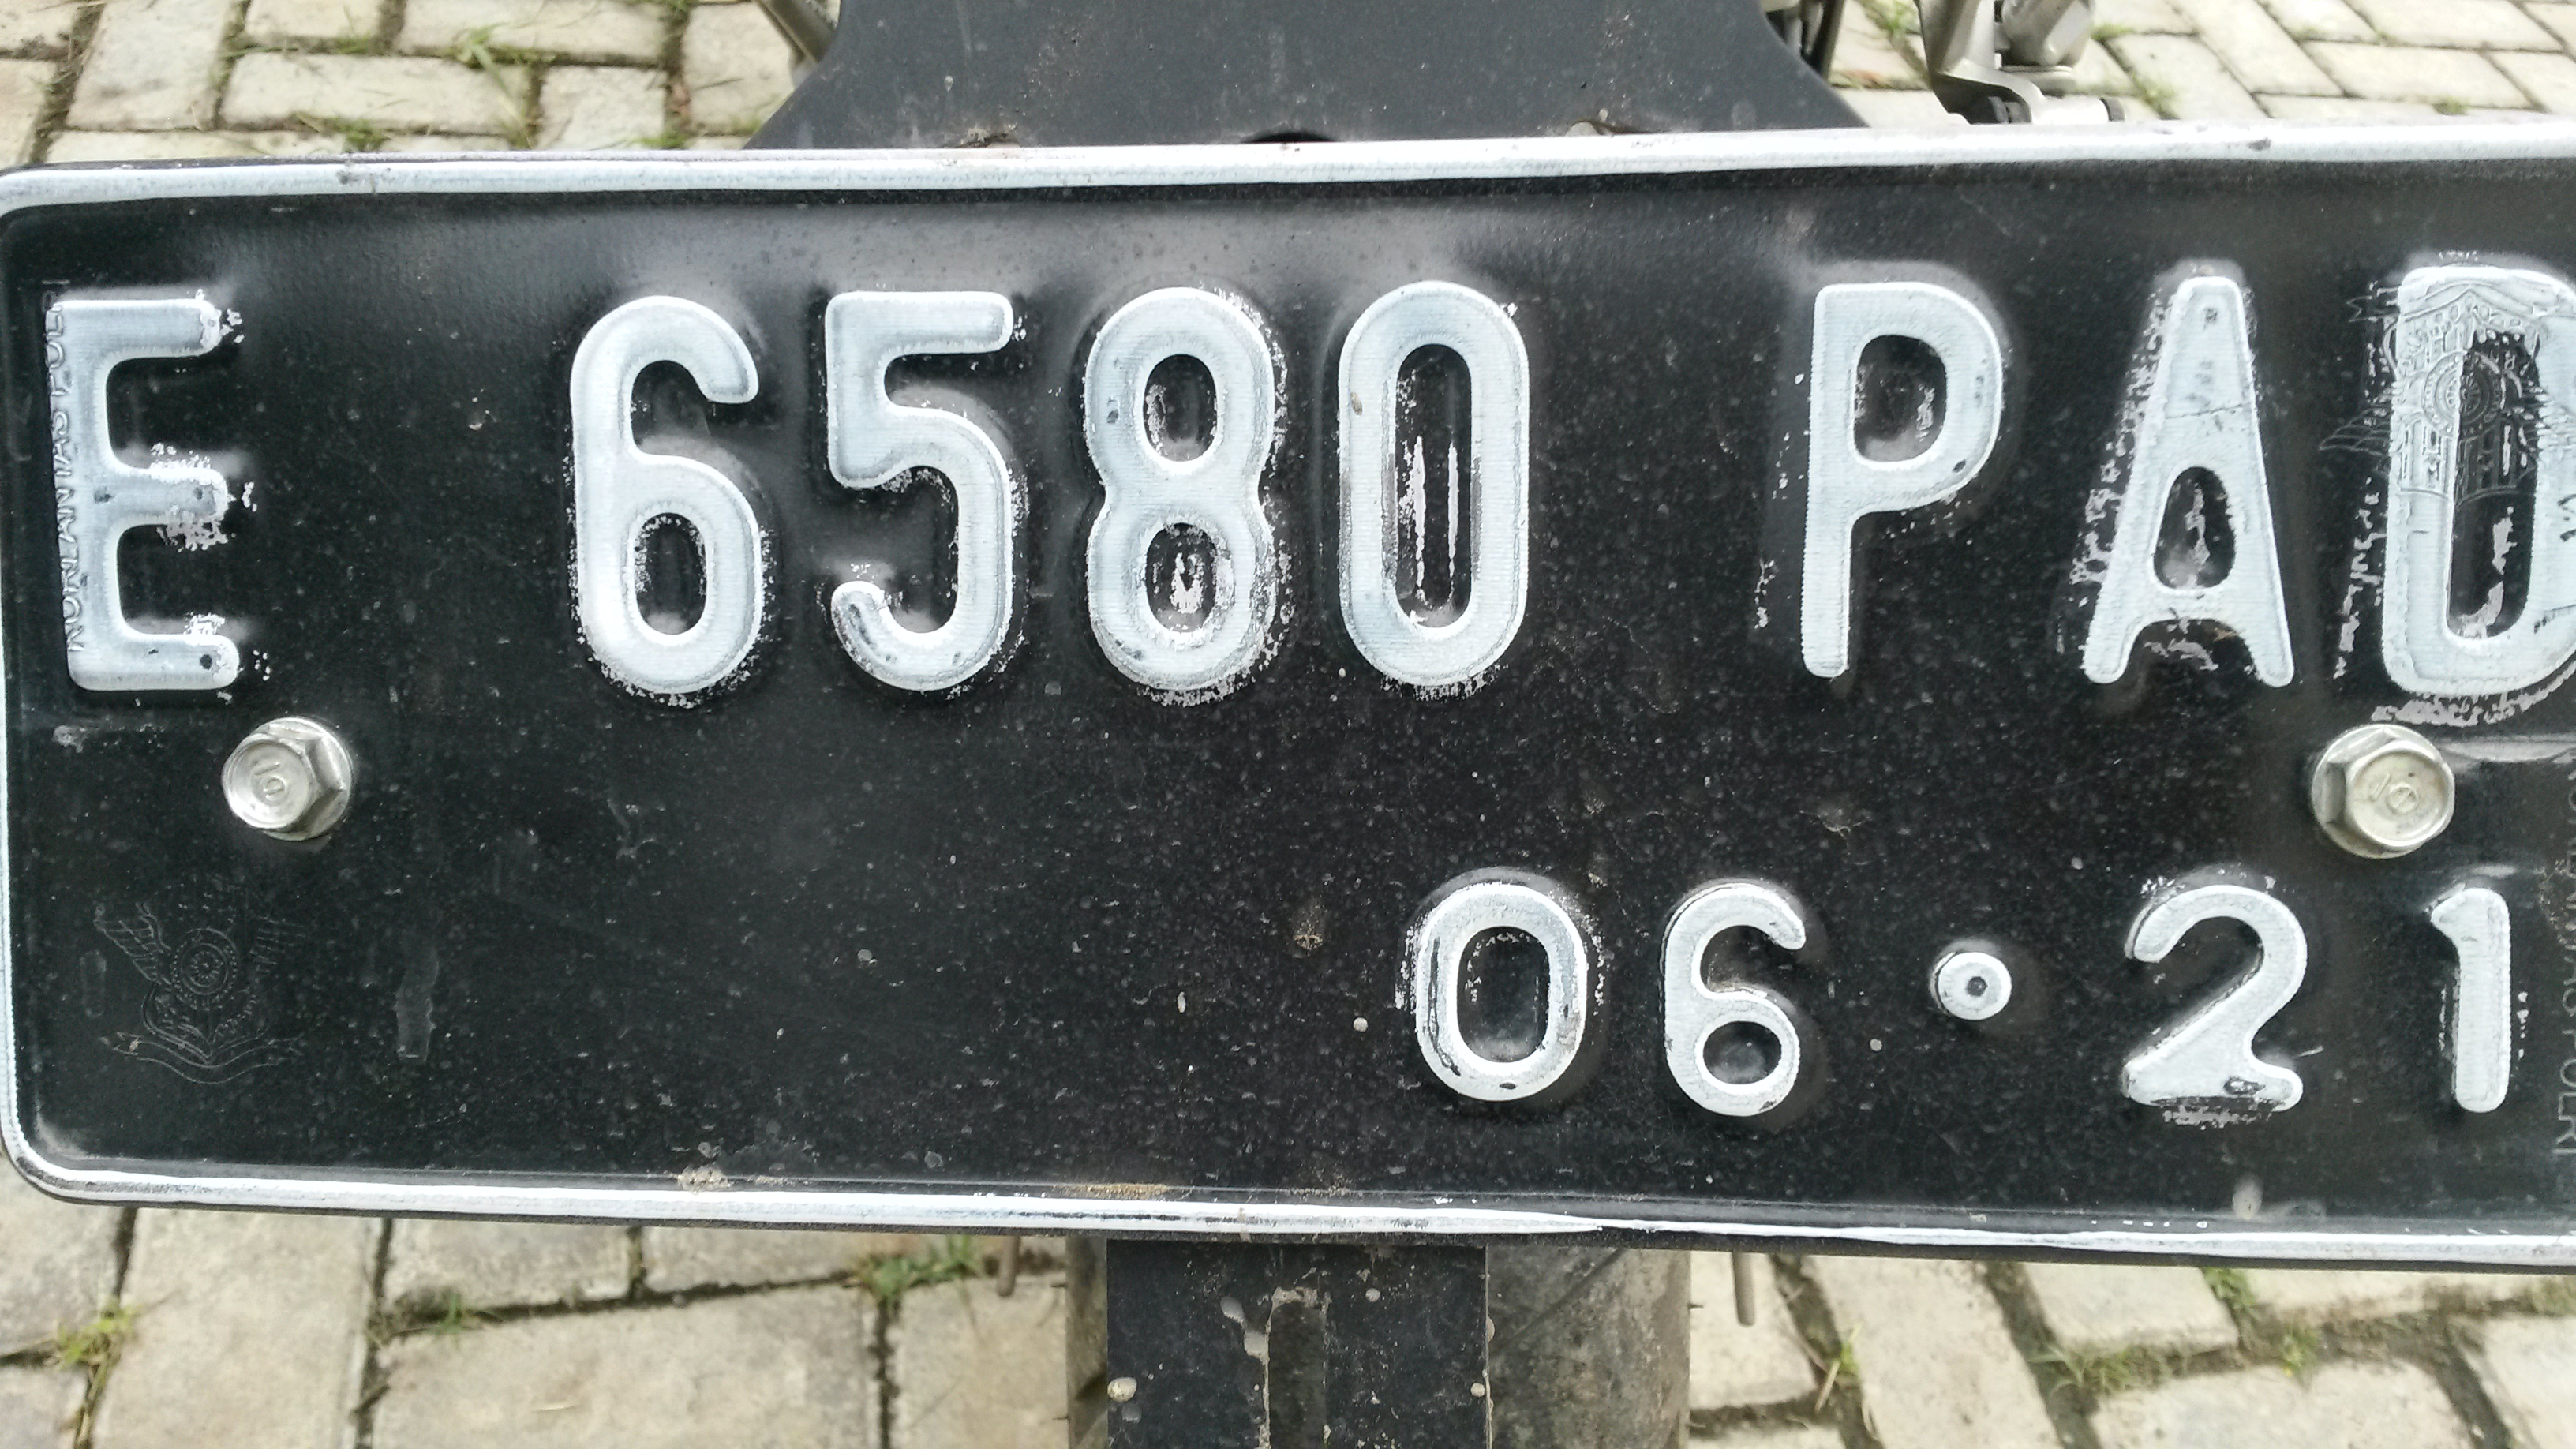plate: (1, 174, 2576, 1273)
